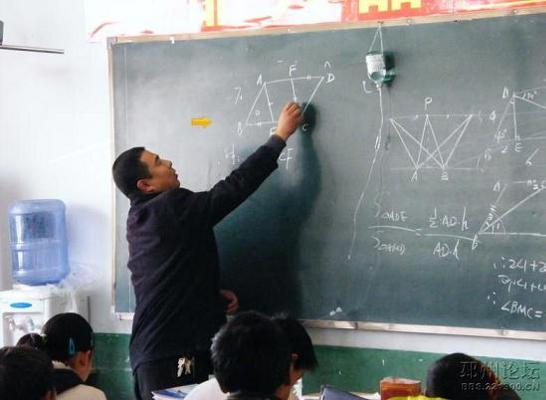person: (111, 104, 307, 399)
